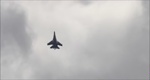maybay_muctieu: (47, 30, 62, 52)
